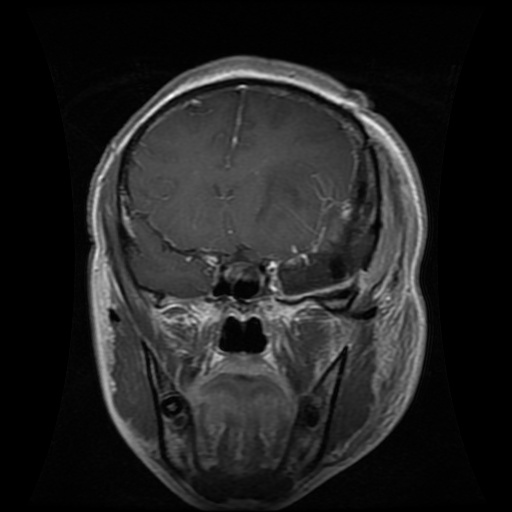glioma: (269, 132, 375, 295)
